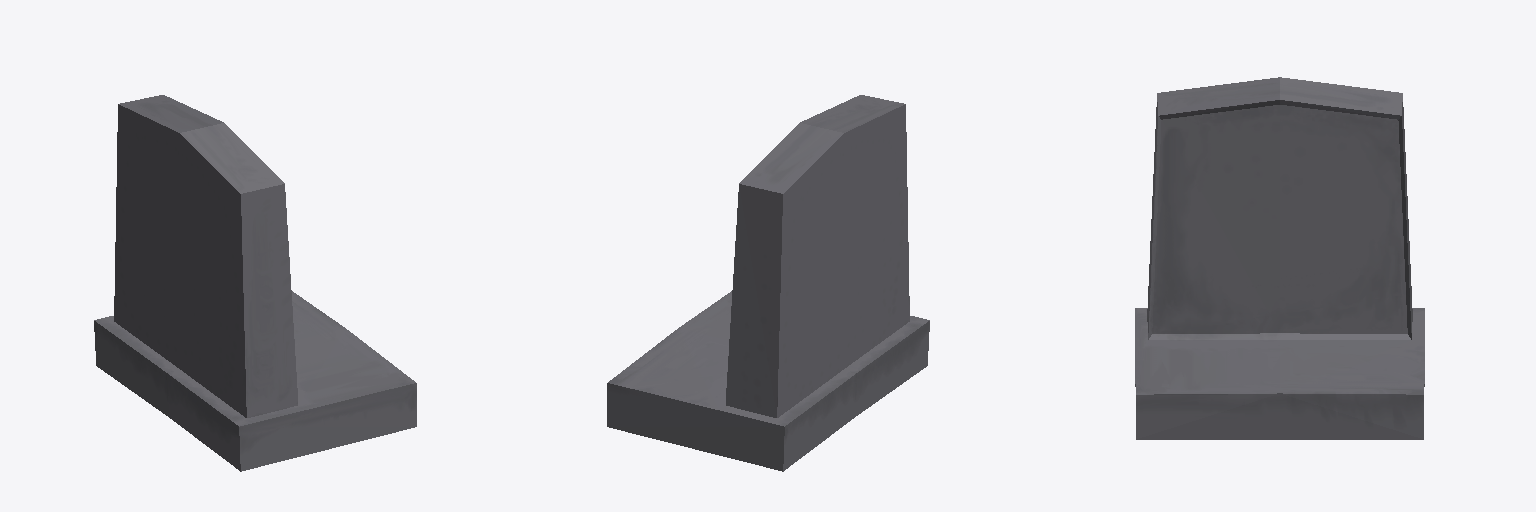
3 renders of one model, left to right at view 1: azimuth 30°, elevation 25°; view 2: azimuth 150°, elevation 25°; view 3: azimuth 270°, elevation 25°, orthographic.
Visible parts, largest first — view 1: Cube.001; view 2: Cube.001; view 3: Cube.001.
Part boxes in pixels (left/top/right/bottom): Cube.001: left=94, top=95, right=416, bottom=471; Cube.001: left=607, top=95, right=929, bottom=471; Cube.001: left=1135, top=77, right=1424, bottom=439.
Bounding box in the file's own units: 1.33 × 2.01 × 1.87.
1 materials, 1 textured.